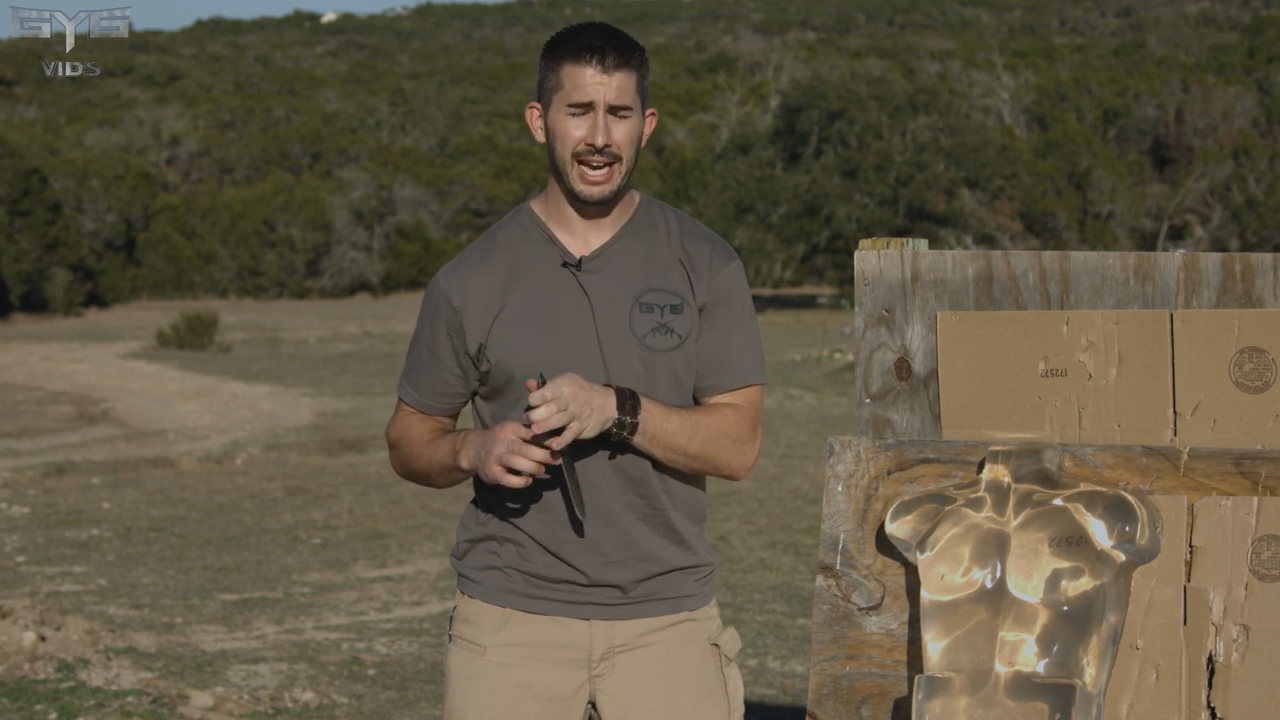knife: (523, 364, 596, 544)
